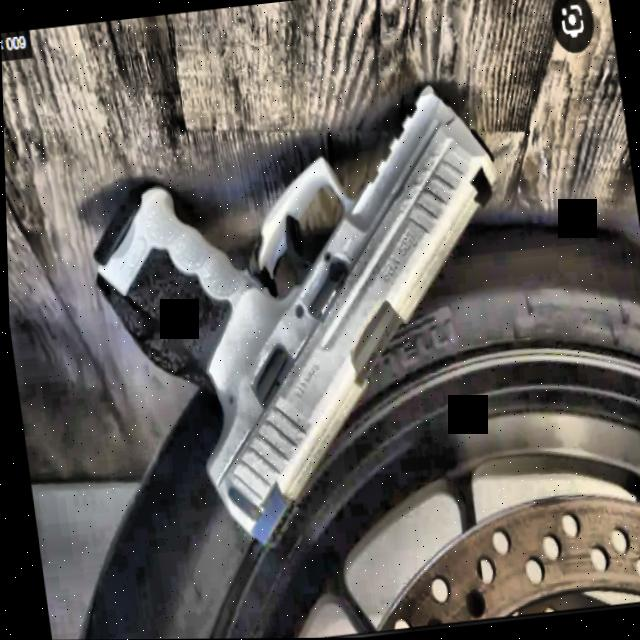HKVP9: (49, 96, 538, 560)
